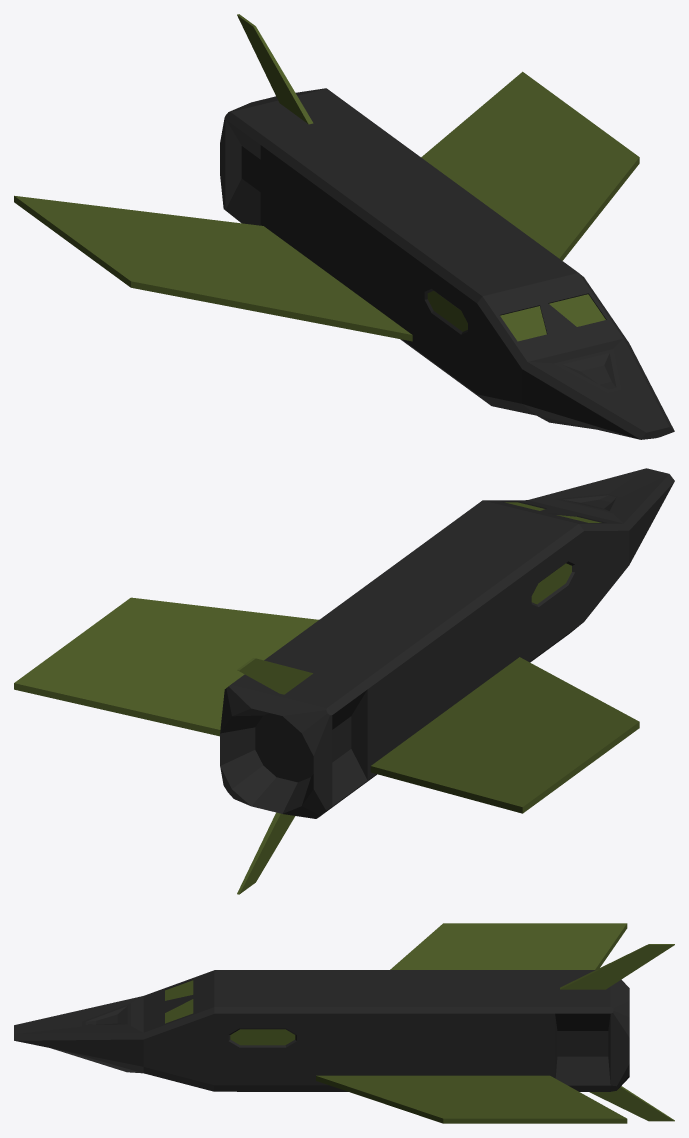
File: spaaaaceship.fbx
3 views of the same model, one above another, from view 1: azimuth 30°, elevation 25°; view 2: azimuth 150°, elevation 25°; view 3: azimuth 270°, elevation 25° (orthographic). The views are drawn at different scales.
Visible parts, largest first — view 1: Cube; view 2: Cube; view 3: Cube.
Boxes of the visible parts, bbox=[...] form: Cube: bbox=[14, 14, 674, 439]; Cube: bbox=[14, 468, 674, 894]; Cube: bbox=[14, 923, 674, 1123].
Size of the model in its own units: 1900 by 800 by 2717.
